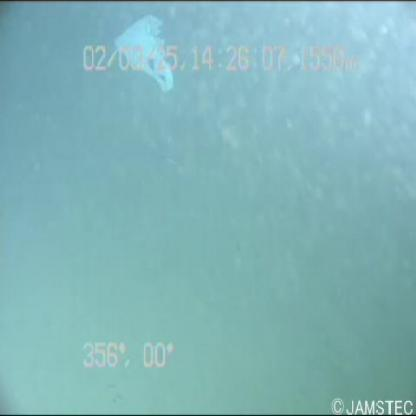Rác: (105, 5, 187, 100)
